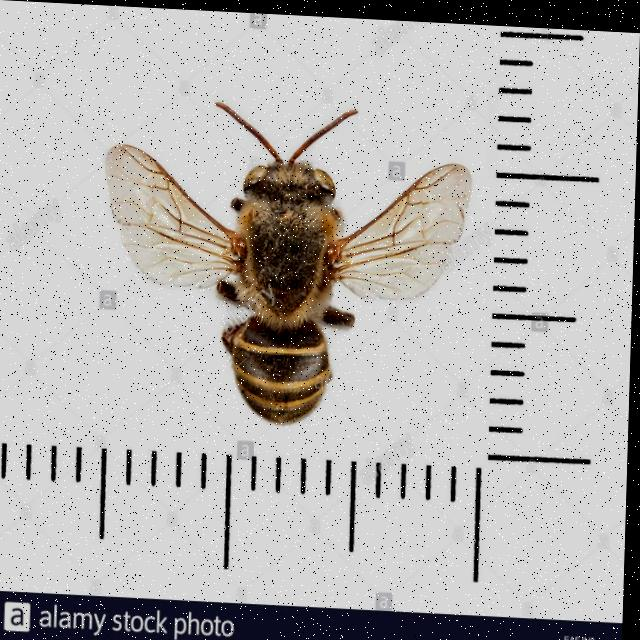Meliponula: (92, 79, 482, 442)
